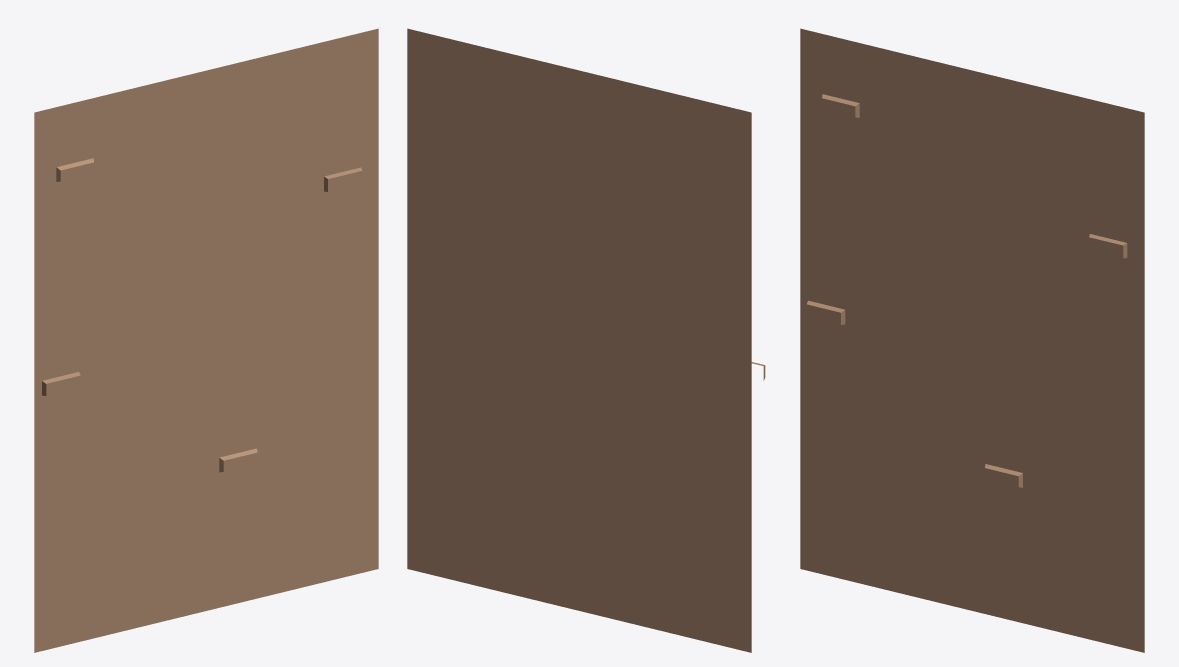
The model's file is env_block_brick_bottom_trim.glb.
3 views of the same model, side by side, from view 1: azimuth 30°, elevation 25°; view 2: azimuth 150°, elevation 25°; view 3: azimuth 330°, elevation 25° (orthographic).
Parts seen in each view (by area): view 1: Brick_BottomTrim.gltf; view 2: Brick_BottomTrim.gltf; view 3: Brick_BottomTrim.gltf.
Part boxes in pixels (left/top/right/bottom): Brick_BottomTrim.gltf: left=34, top=28, right=378, bottom=652; Brick_BottomTrim.gltf: left=407, top=28, right=765, bottom=652; Brick_BottomTrim.gltf: left=800, top=28, right=1144, bottom=652.
Bounding box in the file's own units: 2 × 3 × 0.229.
